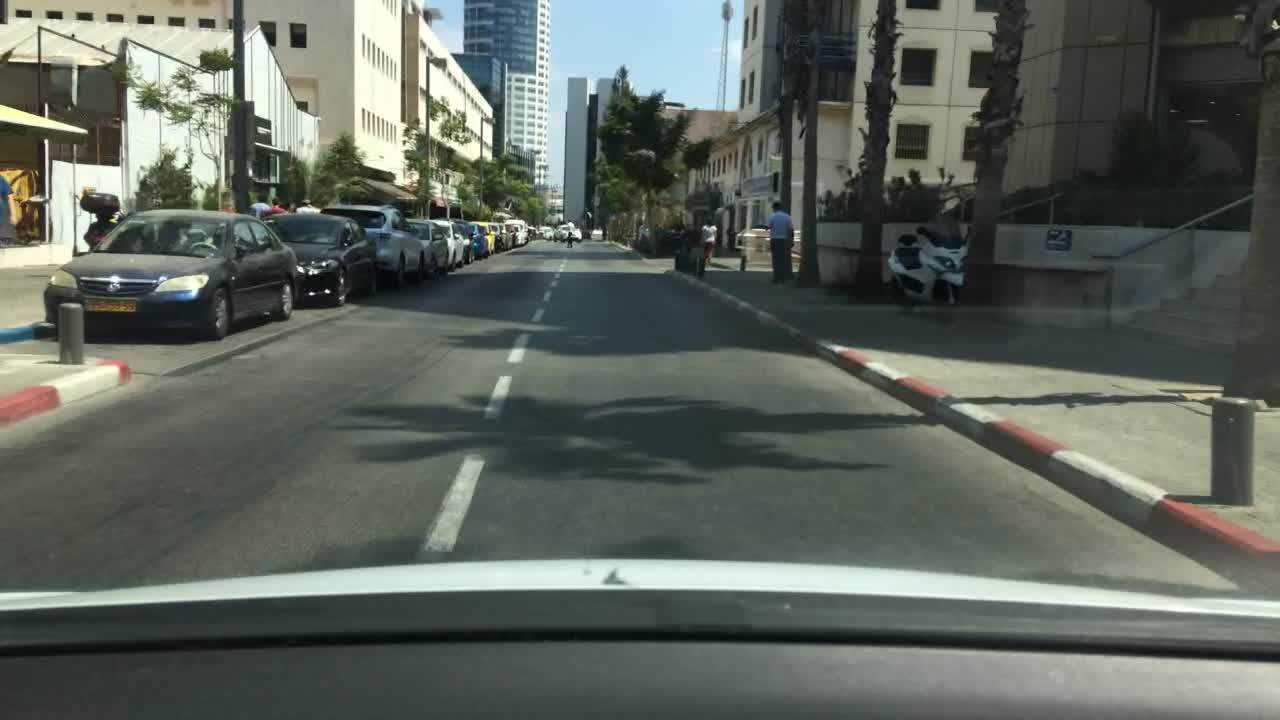car: (42, 205, 299, 339), (259, 210, 388, 307), (316, 203, 428, 285), (402, 215, 449, 276), (437, 218, 475, 265), (452, 216, 489, 261), (465, 221, 494, 255), (496, 220, 520, 250), (484, 221, 504, 253), (501, 217, 525, 242), (553, 224, 568, 239), (538, 226, 555, 239), (524, 225, 538, 239), (568, 228, 582, 242), (589, 228, 602, 242)
motor: (881, 223, 974, 308)
person: (758, 197, 797, 282), (701, 220, 720, 269), (0, 172, 11, 236), (244, 195, 269, 219), (266, 198, 287, 213), (293, 200, 317, 212), (566, 230, 574, 248), (220, 201, 233, 211)
